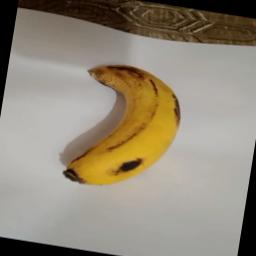Banana Unripe: (62, 56, 190, 198)
